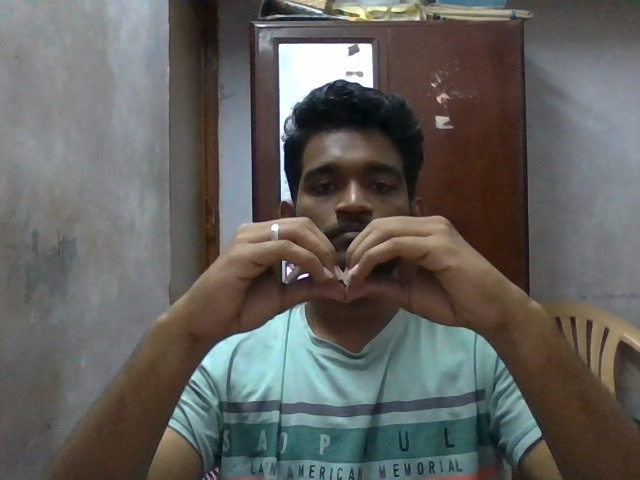B: (164, 211, 521, 353)
